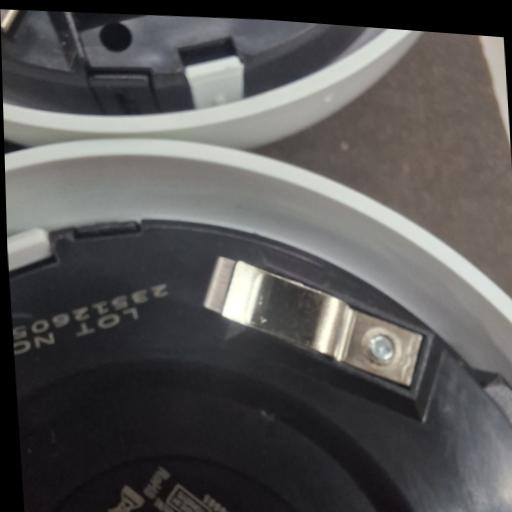yayli: (198, 246, 425, 396)
